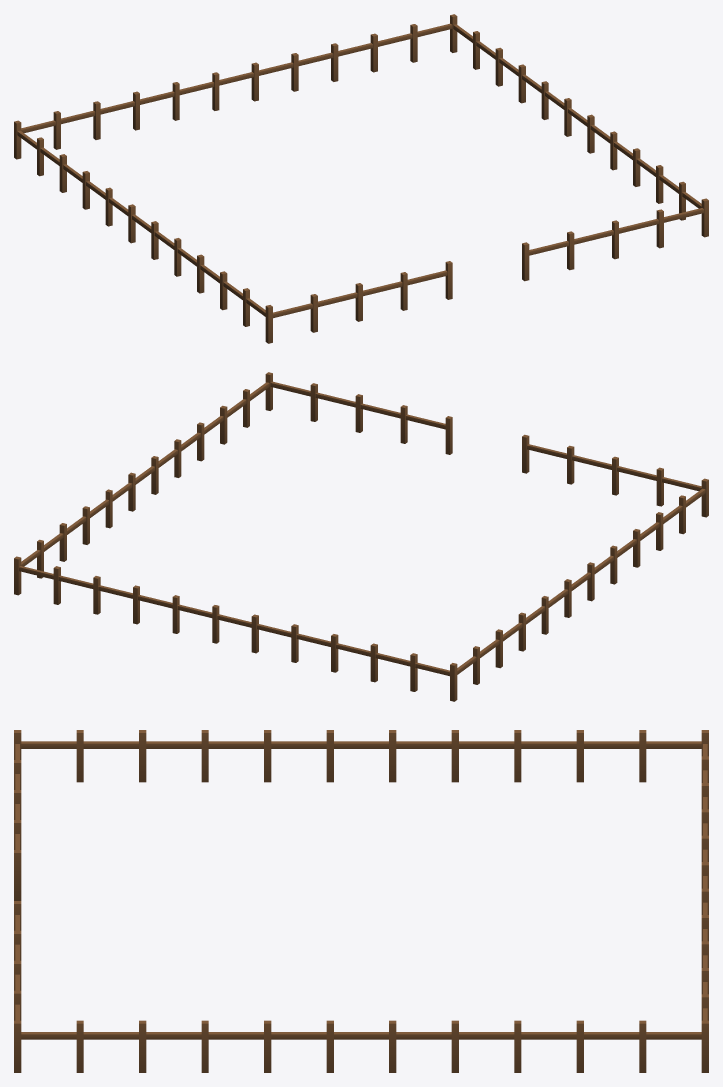
The model's file is wall_MA_0.glb.
The picture shows the model from 3 angles, top to bottom: view 1: azimuth 30°, elevation 25°; view 2: azimuth 150°, elevation 25°; view 3: azimuth 270°, elevation 25°; orthographic projection. The views are drawn at different scales.
Parts seen in each view (by area): view 1: Body; view 2: Body; view 3: Body.
Boxes of the visible parts, x1=… form: Body: x1=14, y1=14, x2=708, y2=343; Body: x1=14, y1=372, x2=708, y2=701; Body: x1=14, y1=730, x2=708, y2=1072.
Size of the model in its own units: 5.76 by 0.45 by 5.76.
1 material, 1 textured.
